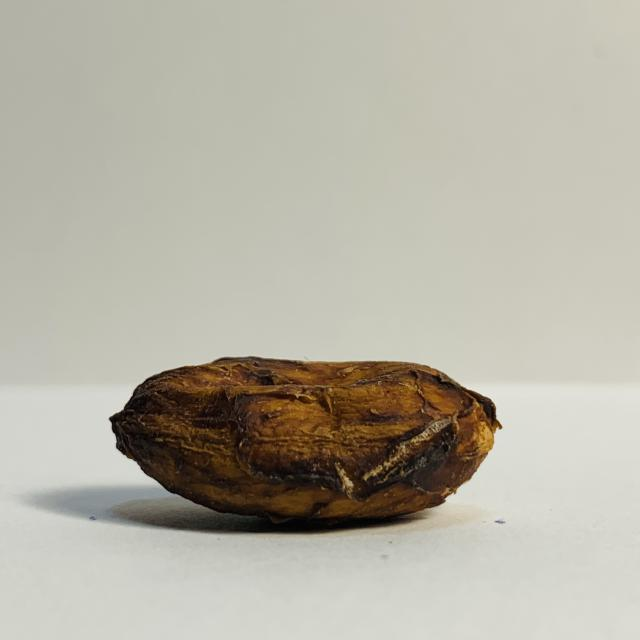Fine_cocoabeans: (8, 307, 588, 557)
